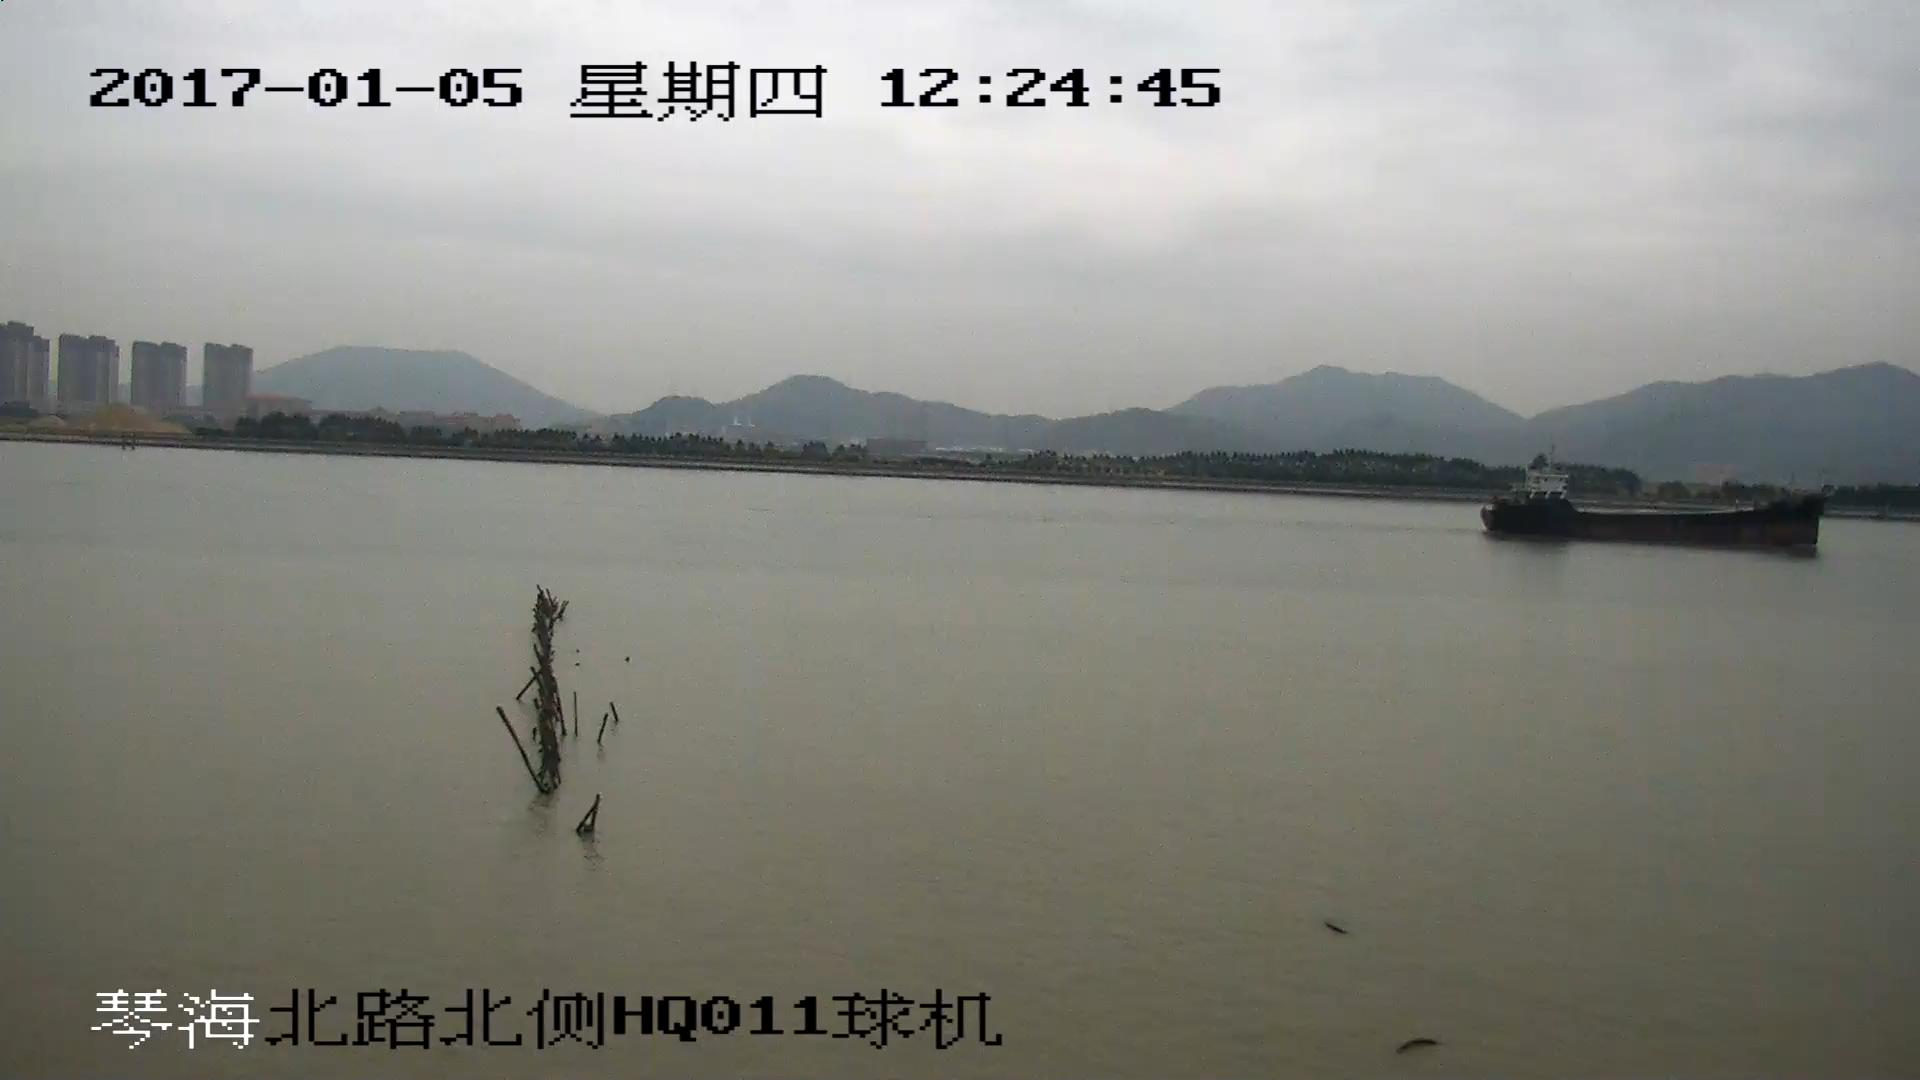general cargo ship: (1480, 471, 1829, 547)
